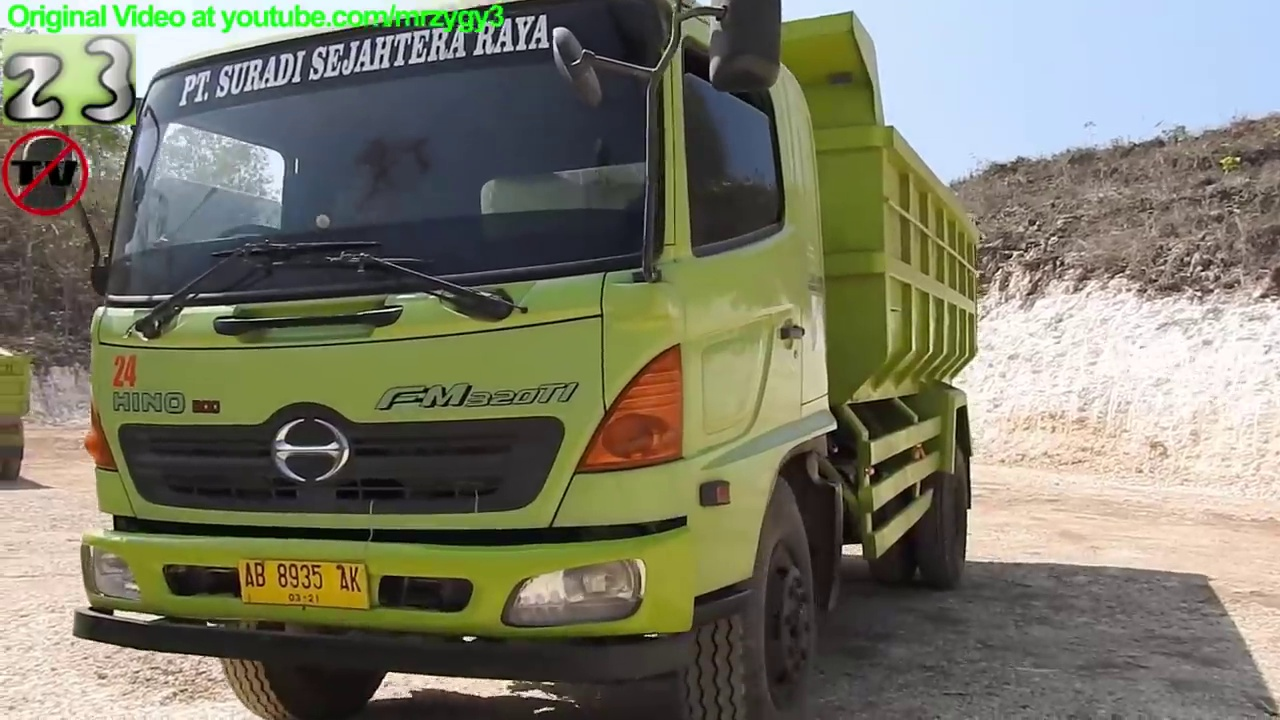truck: (10, 1, 993, 720), (1, 342, 36, 492)
